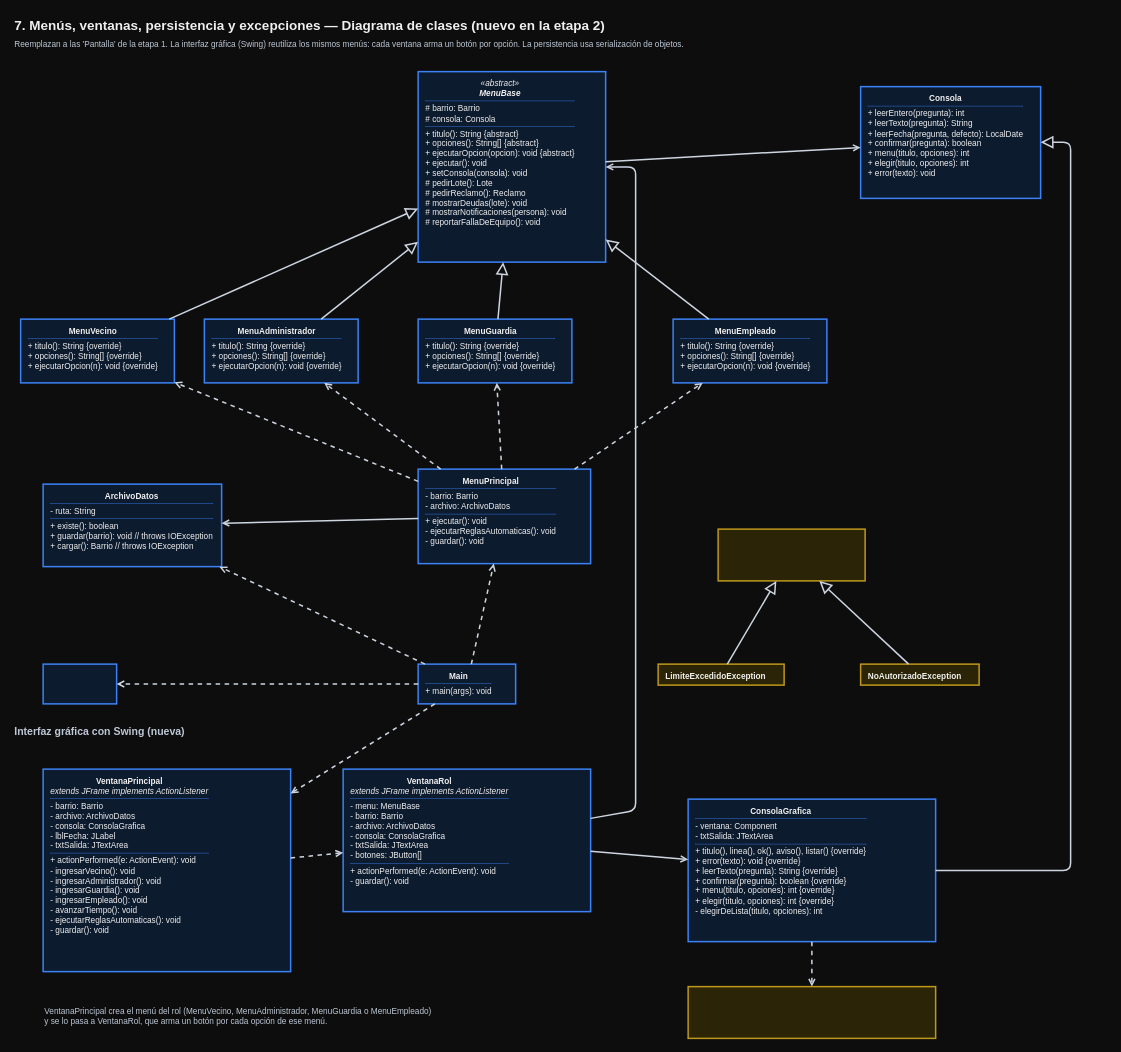
Some shapes in this 1121 by 1052 pixel diagram are drawn without their labels. The shapes that lost their labels are listed below. From the top down, each one's centre as x and y in pixels, then its label:
At (791,554): "«Exception» ReglaNegocioException + ReglaNegocioException(mensaje)".
At (79,683): "DatosPrueba + crear(): Barrio".
At (811,1012): "«RuntimeException» OperacionCancelada + OperacionCancelada()".
